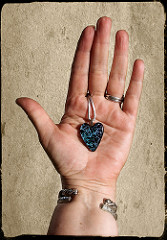palm: (56, 97, 132, 174)
